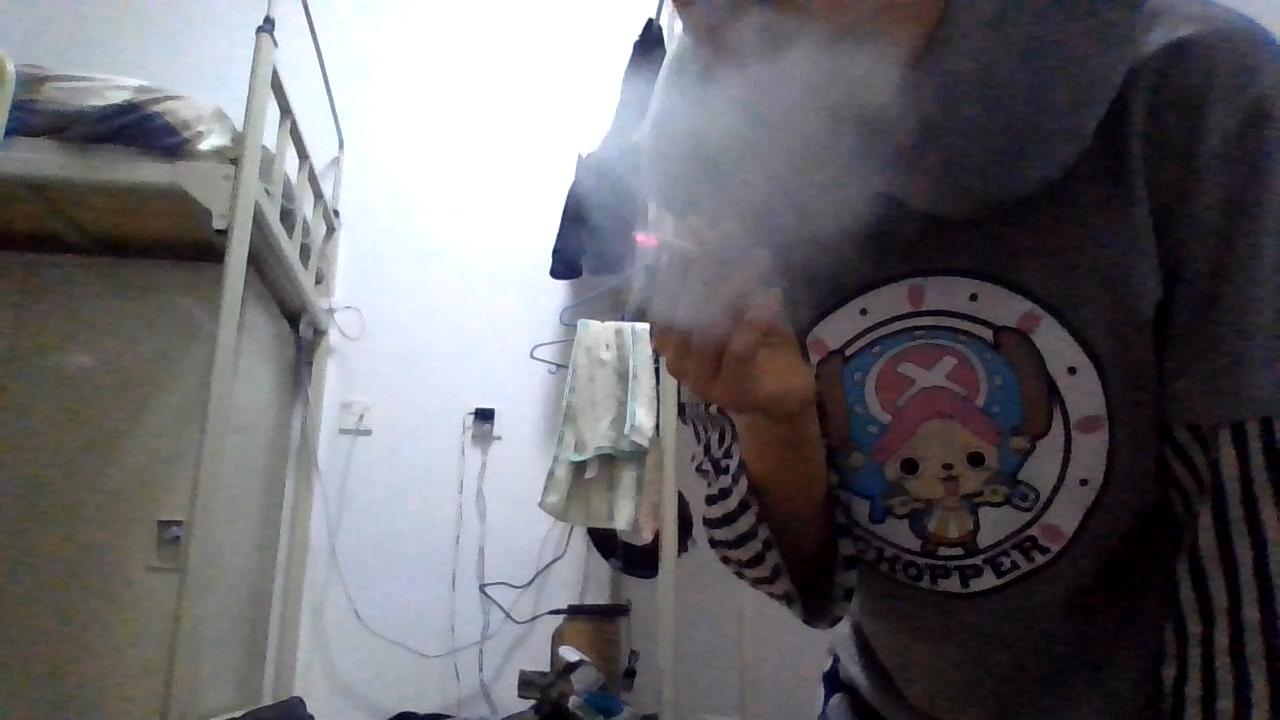smoke: (589, 38, 916, 316)
